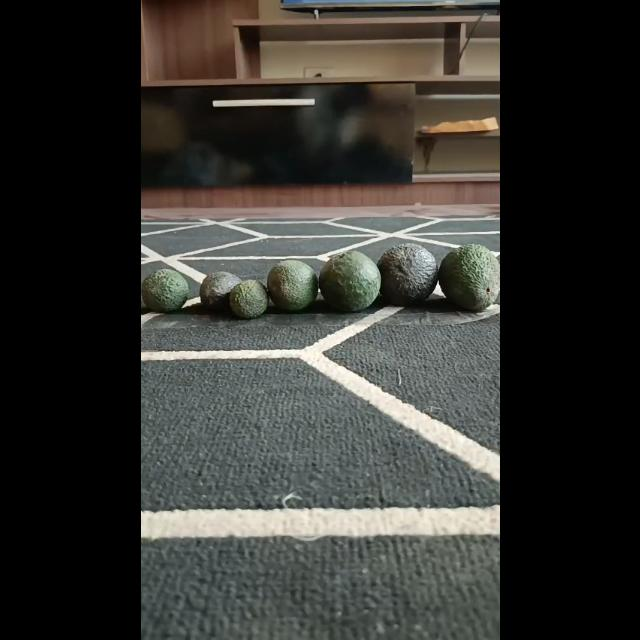Primera: (438, 244, 500, 310), (376, 242, 438, 306), (318, 251, 380, 311)
Segunda: (265, 258, 317, 312)
Tercera: (140, 268, 188, 312), (198, 270, 240, 312), (228, 280, 270, 320)
